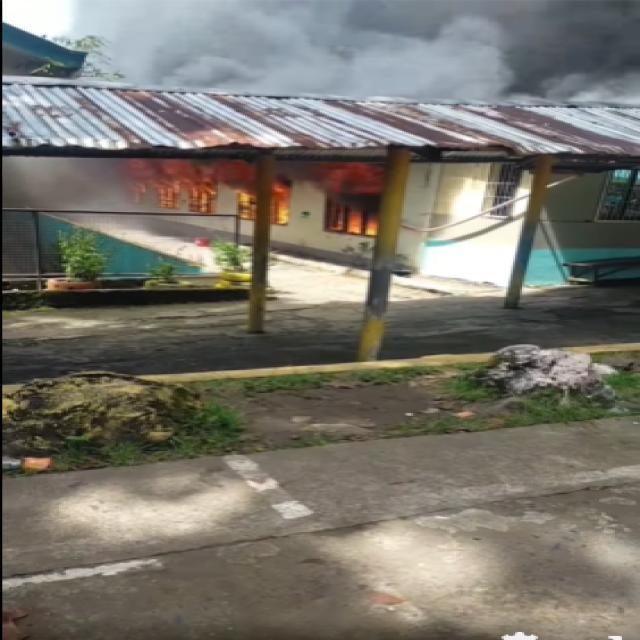Fire: (57, 156, 386, 232)
Smoke: (75, 0, 640, 111)
